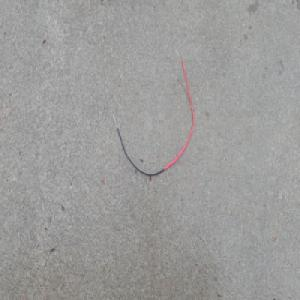Wire: (110, 47, 194, 178)
